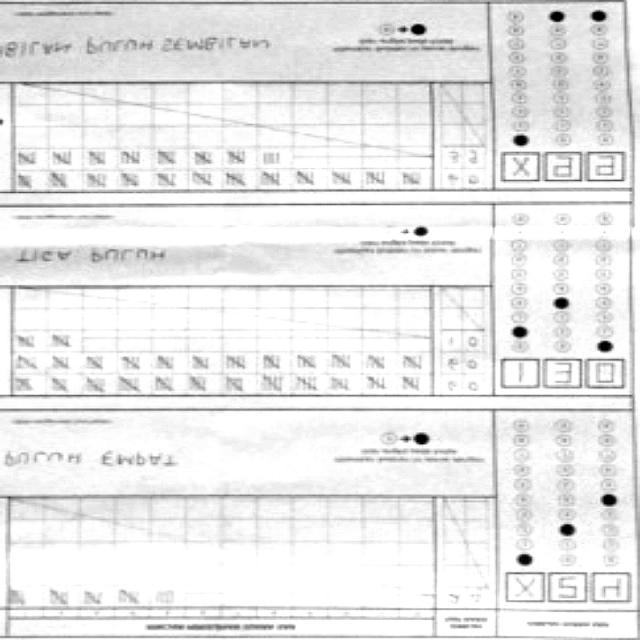Suara: (496, 355, 630, 397), (498, 573, 634, 610), (492, 152, 626, 182)
